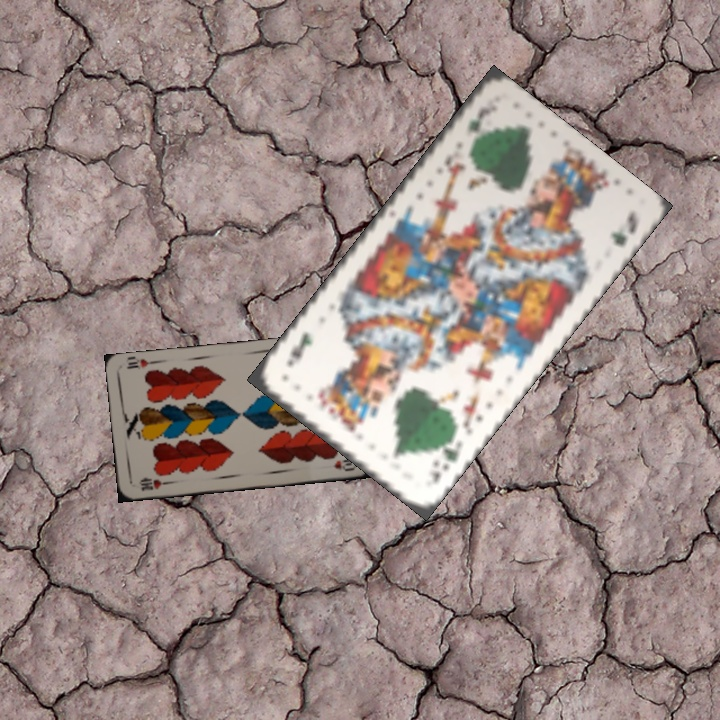GK: (427, 433, 462, 489), (462, 109, 485, 148)
H10: (135, 475, 172, 493)
